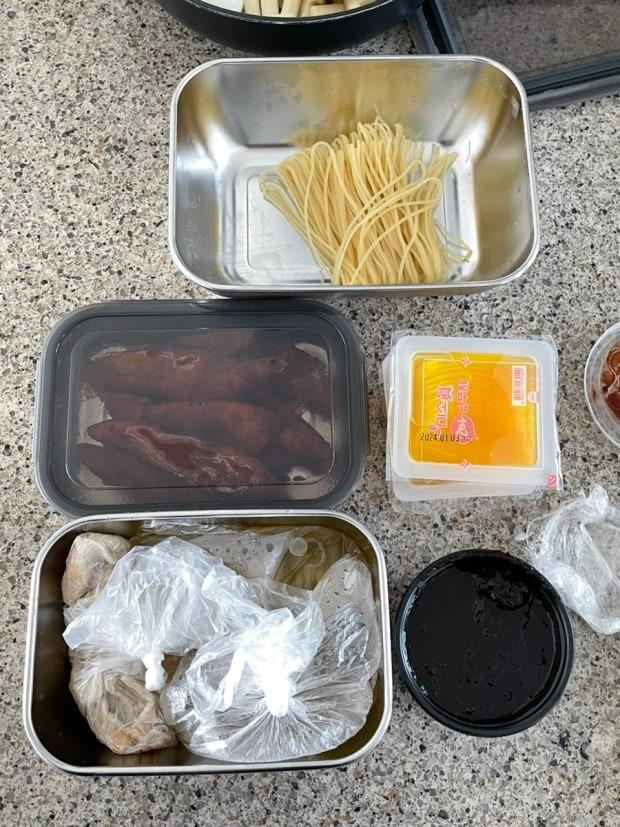Lunch Box: (24, 511, 391, 774), (169, 56, 538, 296), (33, 299, 367, 515), (384, 335, 560, 504), (155, 0, 424, 56)
cup: (394, 550, 573, 736), (584, 322, 620, 449)
